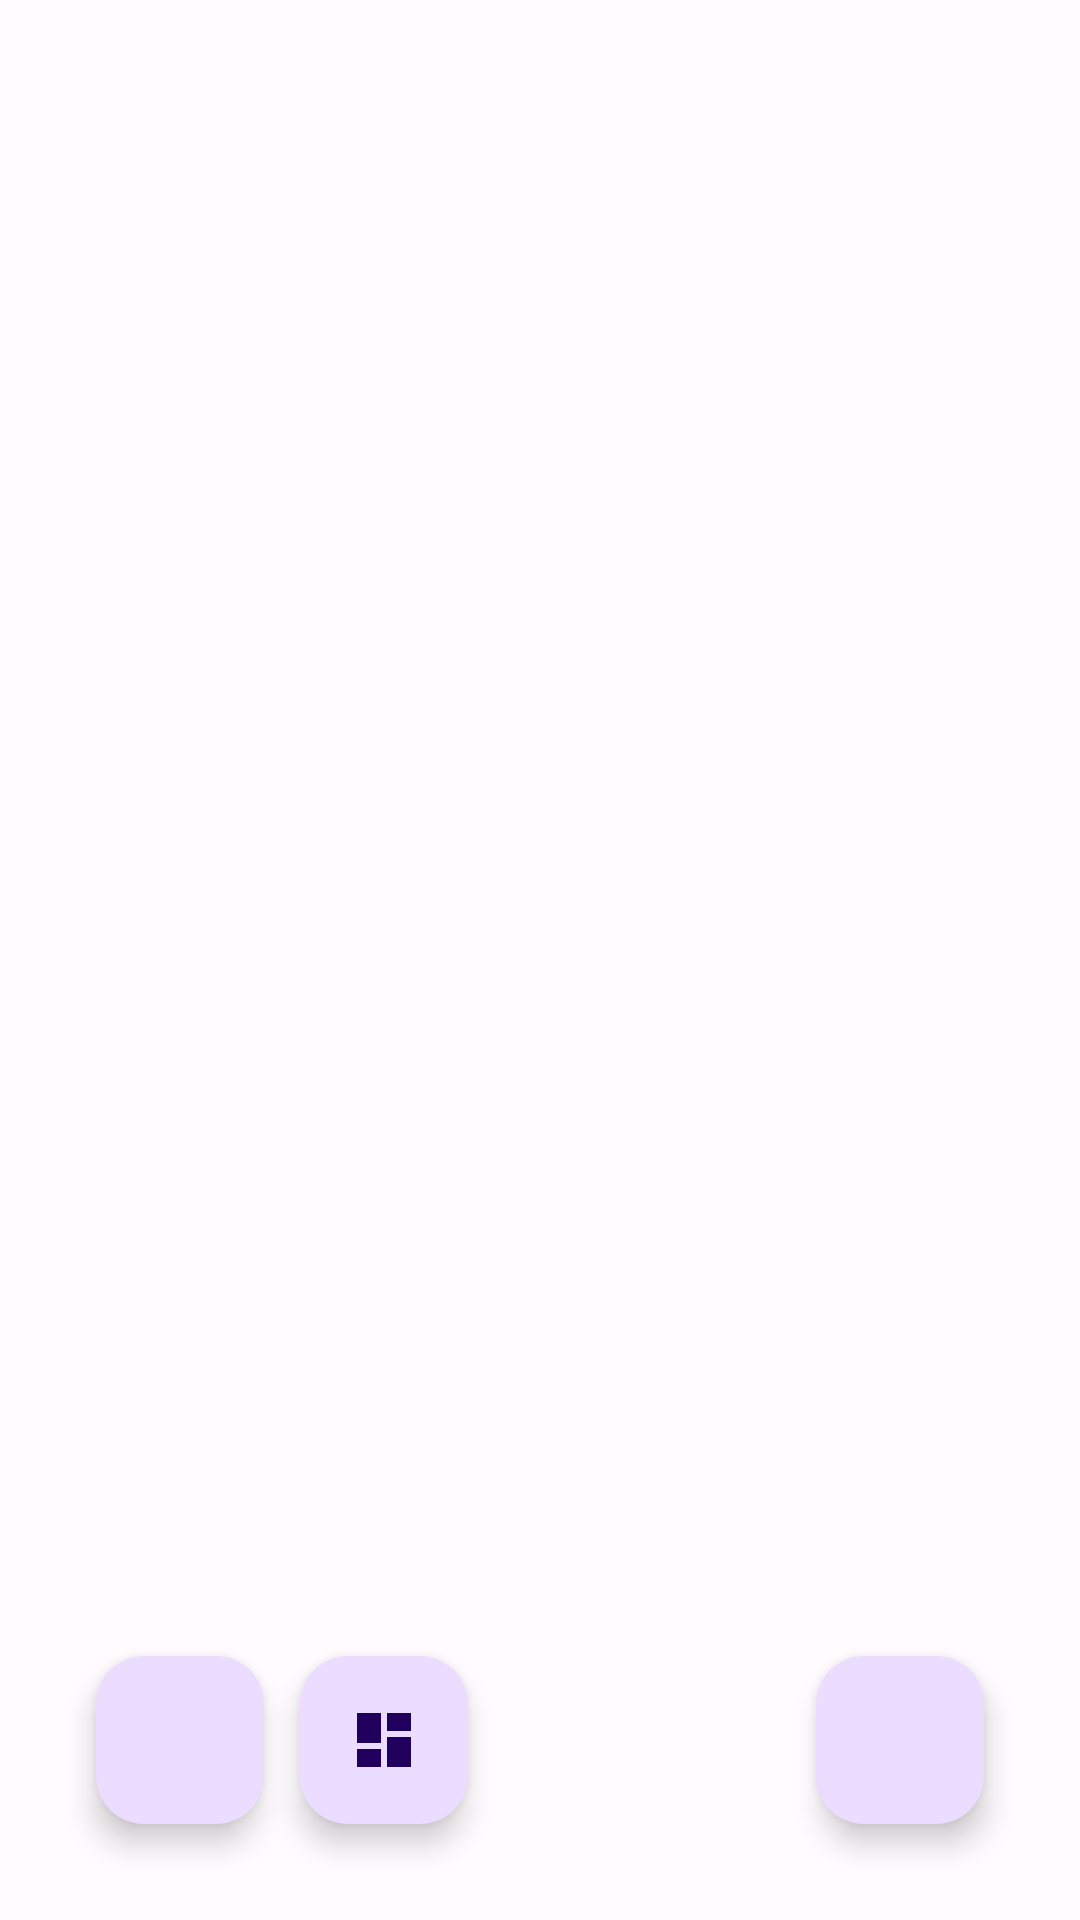

Where icons sit on this 1080px x 1920px app screen, as (x1, y1, x2, y2):
Ver resumo da lista: (300, 1656, 468, 1824)
